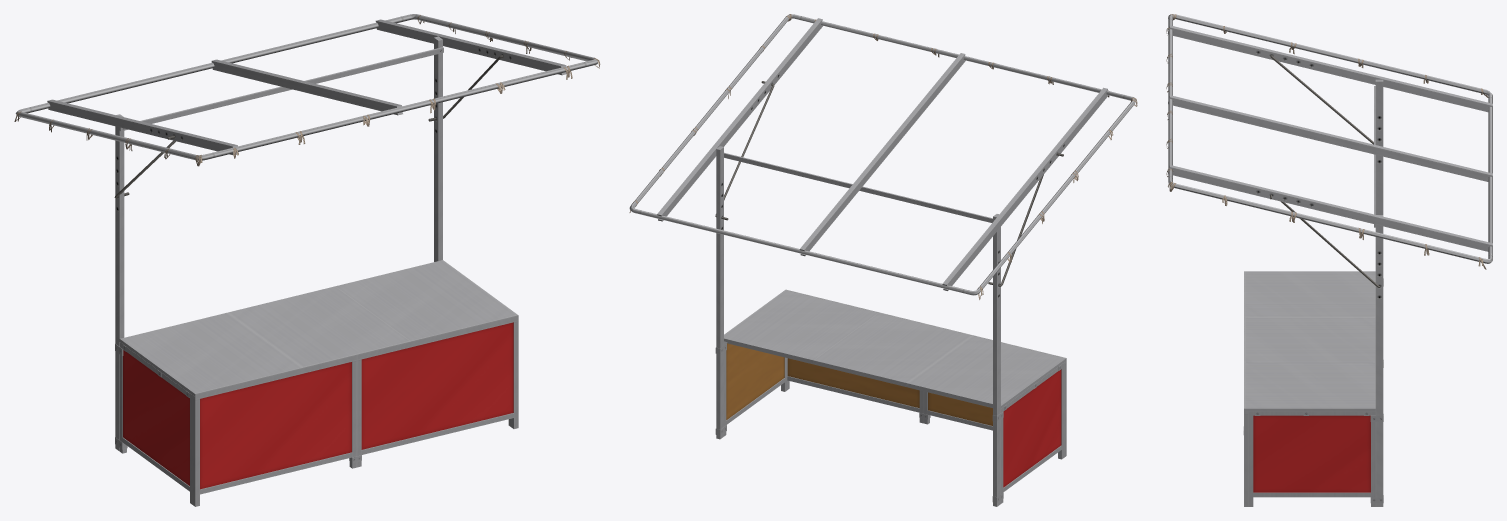
File: jsf_2P_s02_c06_t01.fbx
3 views of the same model, side by side, from view 1: azimuth 30°, elevation 25°; view 2: azimuth 150°, elevation 25°; view 3: azimuth 270°, elevation 25° (orthographic). The views are drawn at different scales.
Parts seen in each view (by area): view 1: Base_s02_c06, Table_2P_s02_t01, Pillar2_s02, Rope_2P_s02; view 2: Pillar2_s02, Table_2P_s02_t01, Base_s02_c06; view 3: Pillar2_s02, Table_2P_s02_t01, Base_s02_c06, Rope_2P_s02.
Part boxes in pixels (x1=…): Base_s02_c06: x1=115, y1=315, x2=518, y2=506; Table_2P_s02_t01: x1=119, y1=260, x2=517, y2=397; Pillar2_s02: x1=15, y1=14, x2=597, y2=451; Rope_2P_s02: x1=14, y1=15, x2=600, y2=166; Pillar2_s02: x1=629, y1=14, x2=1135, y2=506; Table_2P_s02_t01: x1=724, y1=290, x2=1065, y2=410; Base_s02_c06: x1=715, y1=289, x2=1066, y2=503; Pillar2_s02: x1=1168, y1=14, x2=1492, y2=506; Table_2P_s02_t01: x1=1245, y1=271, x2=1375, y2=415; Base_s02_c06: x1=1243, y1=271, x2=1383, y2=506; Rope_2P_s02: x1=1166, y1=14, x2=1488, y2=269.
Bounding box in the file's own units: 264 × 244 × 211.
